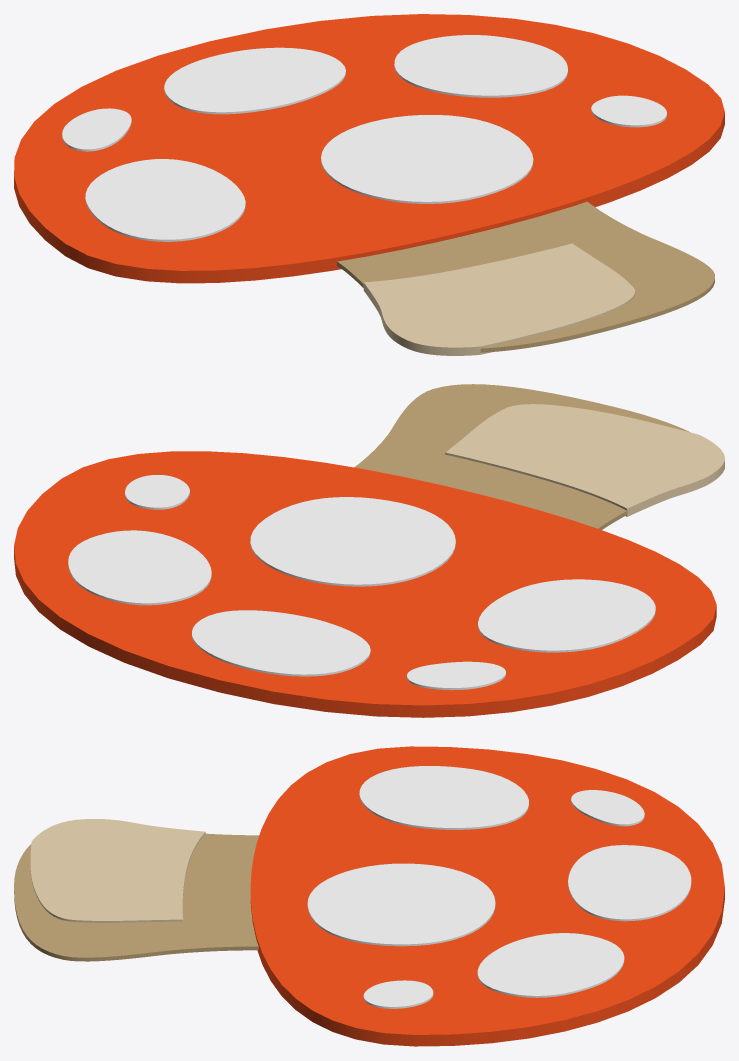
Rendered from emoji_u1f344.glb.
3 views of the same model, one above another, from view 1: azimuth 30°, elevation 25°; view 2: azimuth 150°, elevation 25°; view 3: azimuth 270°, elevation 25° (orthographic). The views are drawn at different scales.
Visible parts, largest first — view 1: emoji_u1f344; view 2: emoji_u1f344; view 3: emoji_u1f344.
Boxes of the visible parts, left/top/right/bottom form: emoji_u1f344: left=14, top=14, right=724, bottom=355; emoji_u1f344: left=14, top=384, right=724, bottom=717; emoji_u1f344: left=14, top=746, right=724, bottom=1046.
Bounding box in the file's own units: 0.0323 × 0.0008 × 0.0336.
